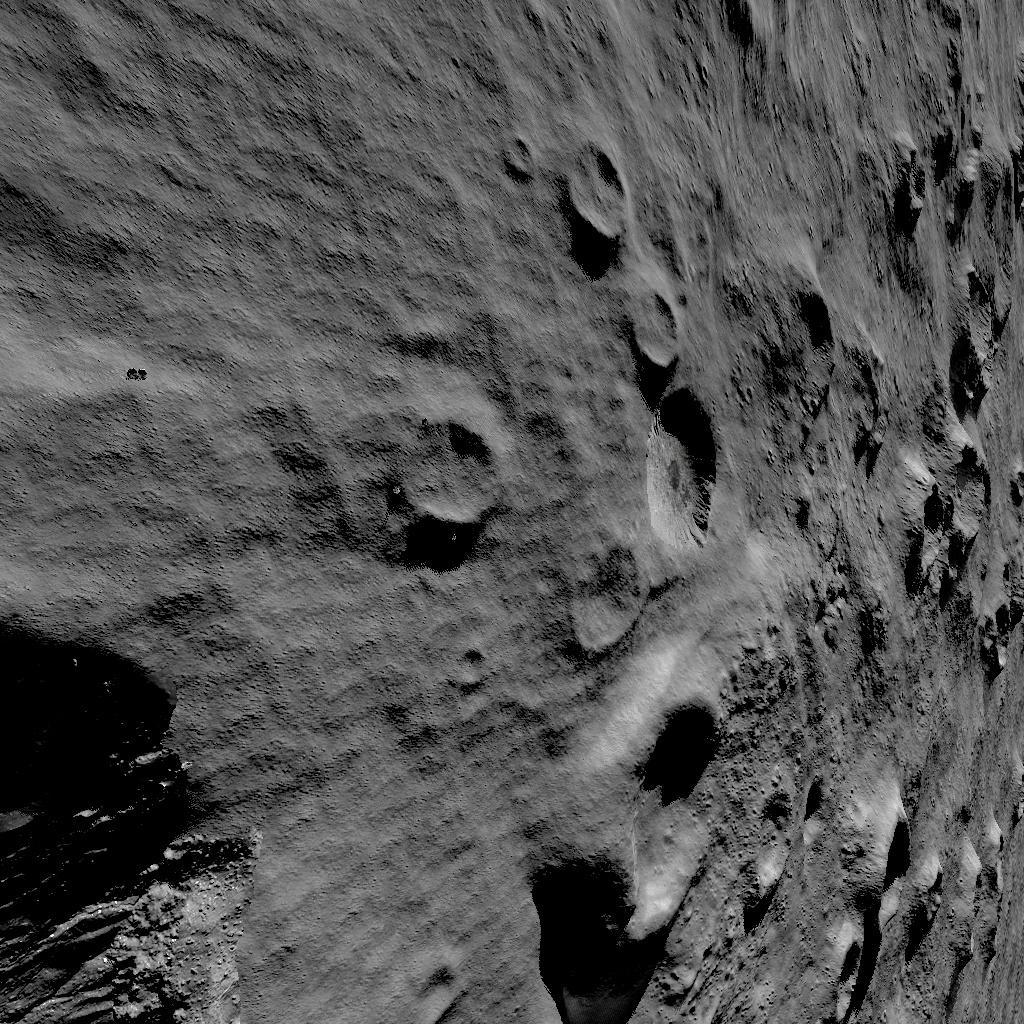Boulders: (0, 598, 216, 1024)
Crater: (528, 640, 723, 1000), (546, 142, 703, 548), (744, 762, 978, 1022), (868, 298, 1018, 642), (646, 0, 948, 100), (858, 112, 1020, 258), (738, 275, 832, 470), (376, 412, 498, 538)
Plan surface: (0, 0, 498, 395), (234, 565, 470, 1024), (0, 410, 341, 553)
